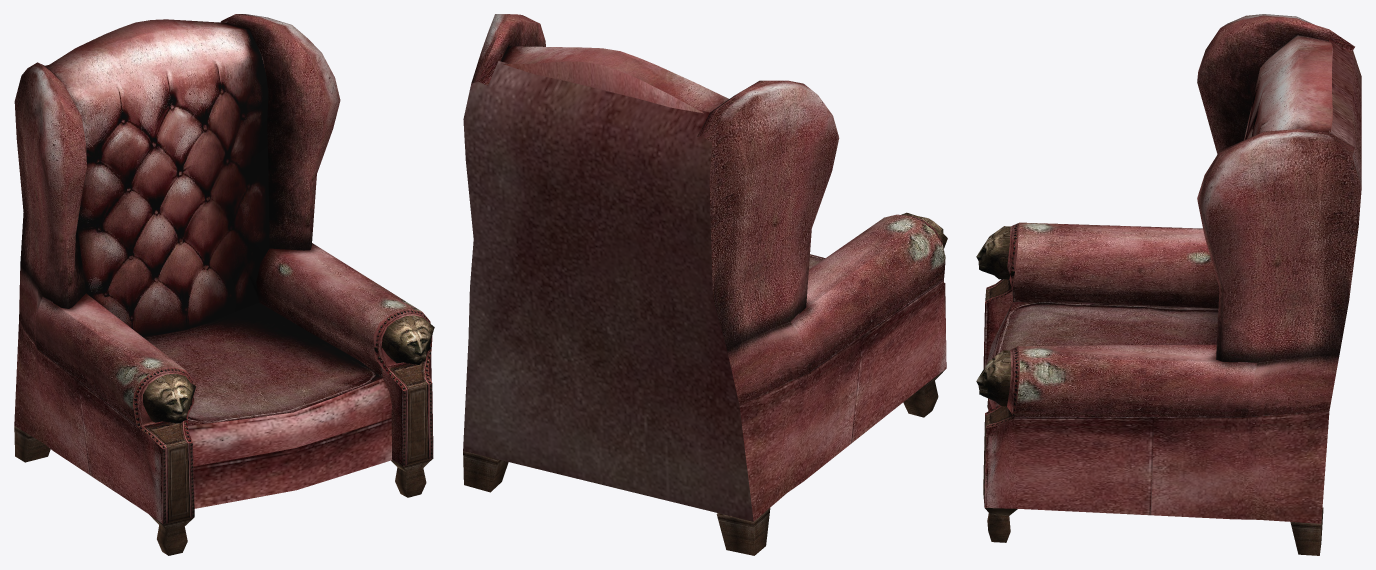
Rendered from matrix.obj.
The picture shows the model from 3 angles, left to right: view 1: azimuth 30°, elevation 25°; view 2: azimuth 150°, elevation 25°; view 3: azimuth 270°, elevation 25°; orthographic projection. The views are drawn at different scales.
Parts seen in each view (by area): view 1: armchair.003; view 2: armchair.003; view 3: armchair.003.
Boxes of the visible parts, bbox=[...] form: armchair.003: bbox=[14, 14, 434, 555]; armchair.003: bbox=[463, 14, 947, 555]; armchair.003: bbox=[976, 14, 1361, 555].
Size of the model in its own units: 1.83 by 2.33 by 1.91.
